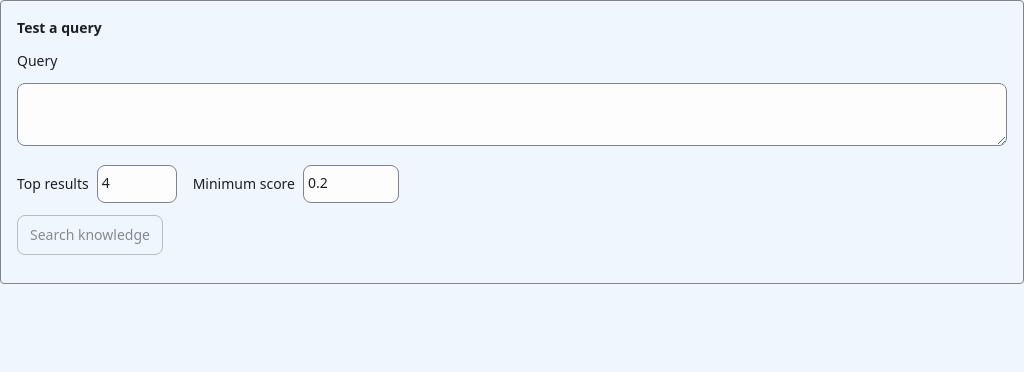
Test case: knowledge components › submits a retrieval query and renders matching text and scores
Type "where lantern?" into the text box labelled "Query" at (512, 115), box [17,83,1007,146]
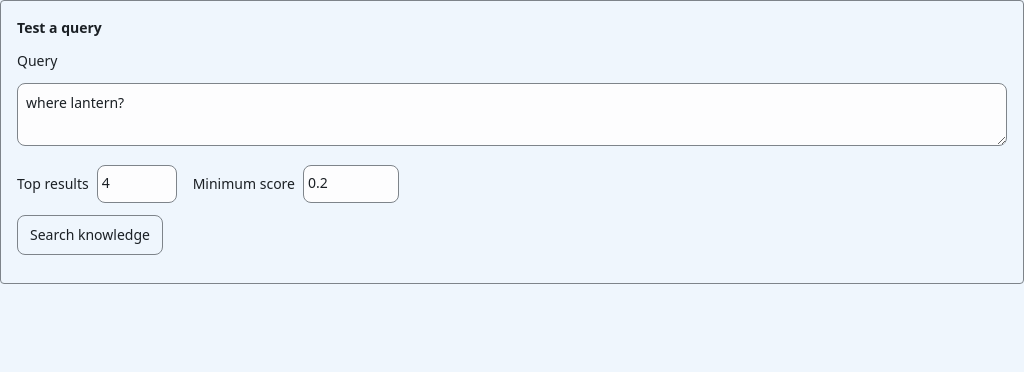
Click the button "Search knowledge" at (90, 235), box [17,215,163,255]
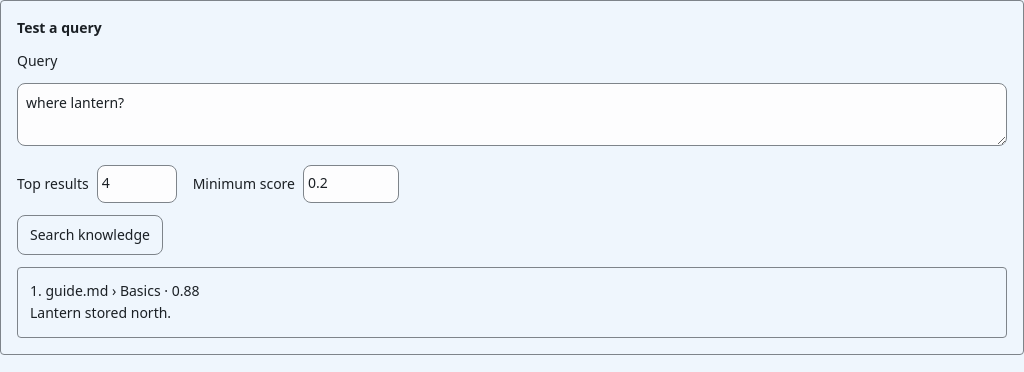
expect the text "Lantern stored north." is shown: met, box [30,303,171,322]
expect the text "1. guide.md › Basics · 0.88" is shown: met, box [30,281,199,300]
